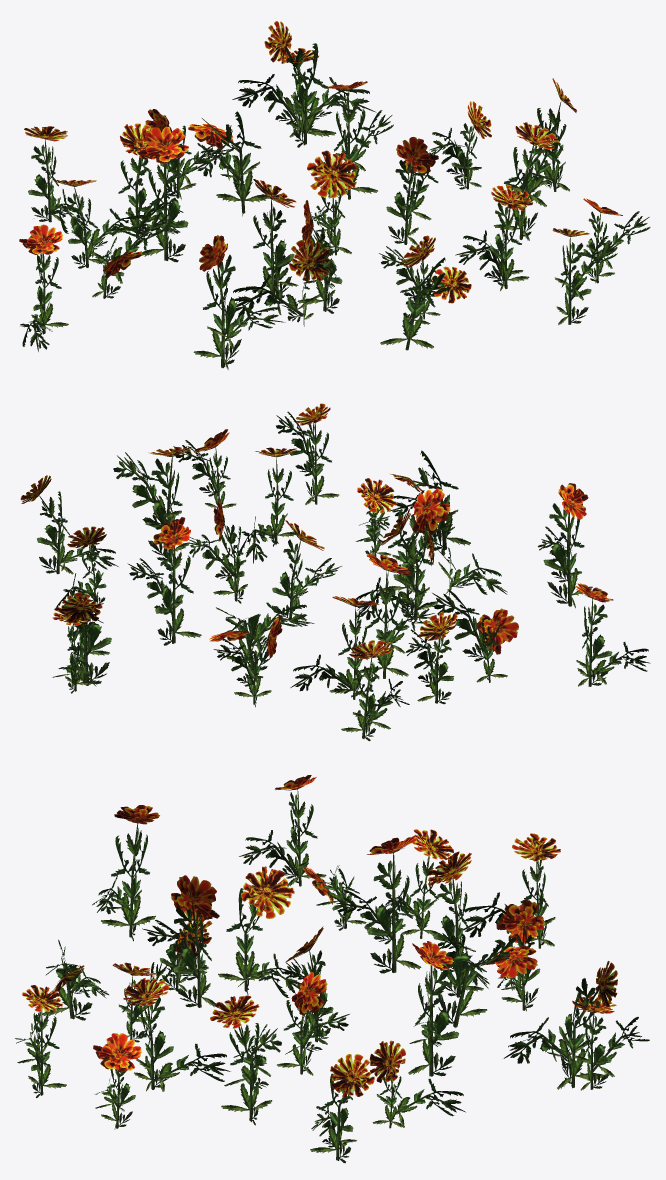
The model's file is Marigold_Patch.obj.
3 views of the same model, one above another, from view 1: azimuth 30°, elevation 25°; view 2: azimuth 150°, elevation 25°; view 3: azimuth 270°, elevation 25° (orthographic). The views are drawn at different scales.
Visible parts, largest first — view 1: LOD0SG; view 2: LOD0SG; view 3: LOD0SG.
Boxes of the visible parts, left/top/right/bottom form: LOD0SG: left=19, top=21, right=650, bottom=369; LOD0SG: left=20, top=403, right=650, bottom=741; LOD0SG: left=15, top=775, right=649, bottom=1163.
Size of the model in its own units: 6.62 by 1.41 by 5.77.
1 material, 1 textured.
